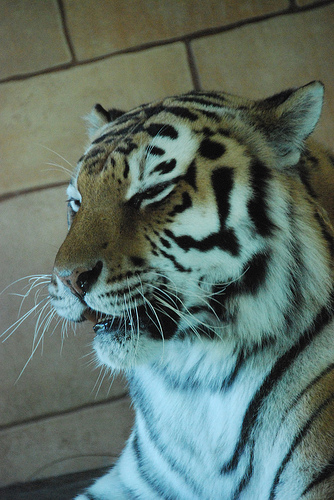Tigre: (26, 64, 323, 416)
